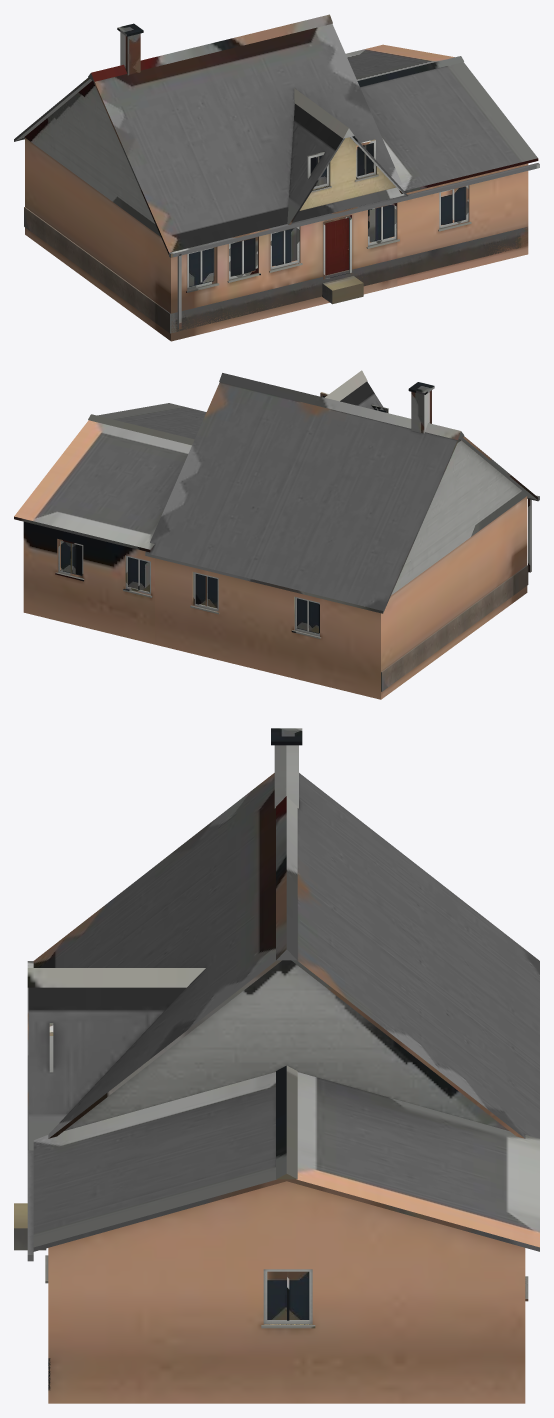
File: vil3a.glb
3 views of the same model, one above another, from view 1: azimuth 30°, elevation 25°; view 2: azimuth 150°, elevation 25°; view 3: azimuth 270°, elevation 25° (orthographic). The views are drawn at different scales.
Visible parts, largest first — view 1: building; view 2: building; view 3: building.
Boxes of the visible parts, box(x1,y1,x2,y2) form: building: box(14, 14, 539, 341); building: box(14, 370, 539, 699); building: box(14, 728, 539, 1403).
Bounding box in the file's own units: 14.24 × 9.23 × 10.74.
2 materials, 2 textured.
